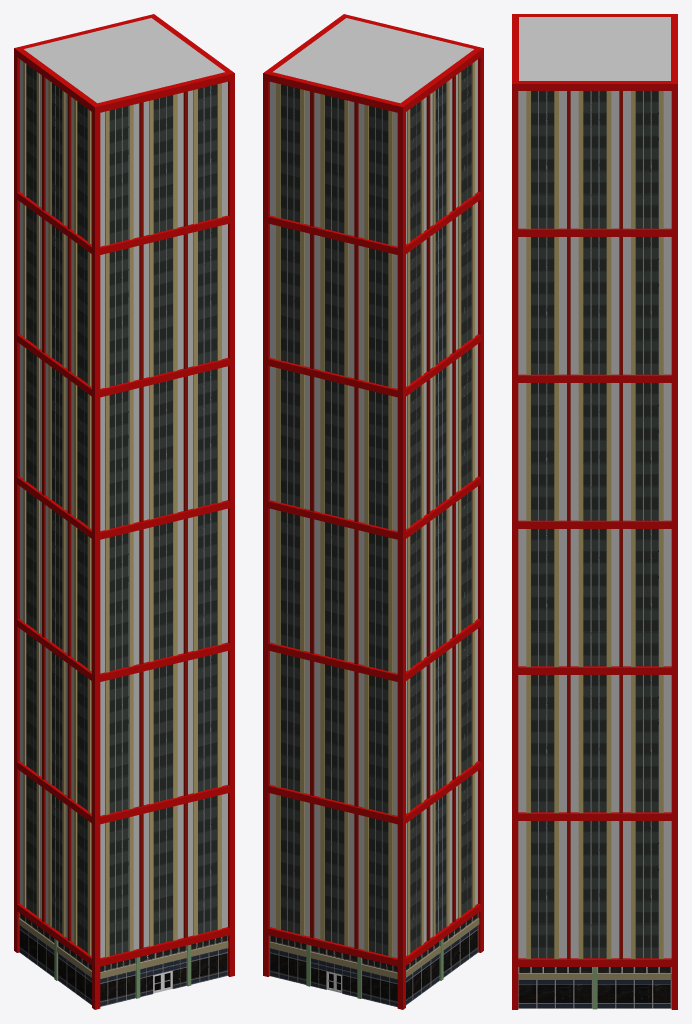
3 views of the same model, side by side, from view 1: azimuth 30°, elevation 25°; view 2: azimuth 150°, elevation 25°; view 3: azimuth 270°, elevation 25° (orthographic). The views are drawn at different scales.
Visible parts, largest first — view 1: Building; view 2: Building; view 3: Building.
Boxes of the visible parts, x1=… form: Building: x1=14, y1=14, x2=234, y2=1009; Building: x1=263, y1=14, x2=483, y2=1009; Building: x1=512, y1=14, x2=677, y2=1009.
Size of what is drawn, in the model's own units: 19.46 by 120 by 19.46.
